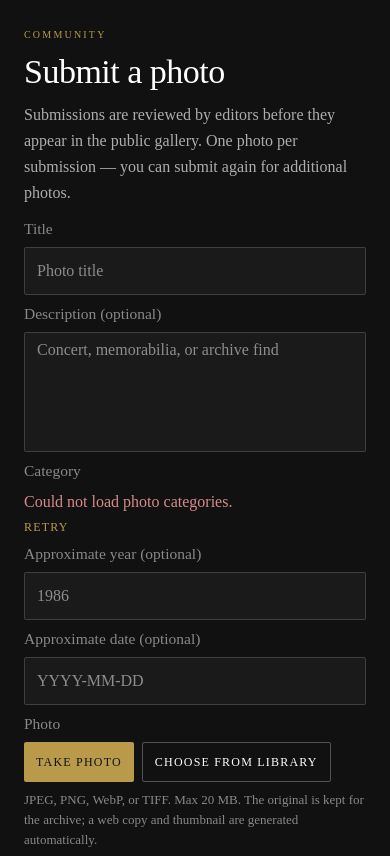
Test case: PhotoSubmitScreen › shows a retry action when photo categories fail to load
The width and height of the screenshot is (390, 856).
Check: the text "Could not load photo categories." is shown, box [24, 493, 232, 510]
Click the button with aria-label "Retry loading photo categories" at (46, 527), box [24, 515, 366, 535]
(page scrolled)
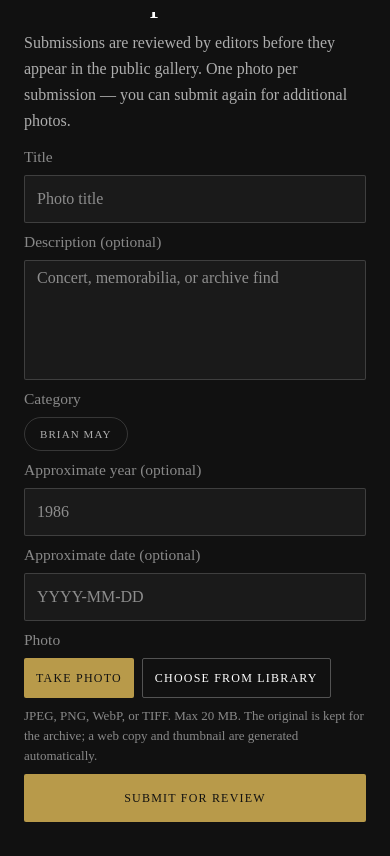
Check: the button "Brian May" is shown, box [24, 417, 128, 451]
Check: the text "Could not load photo categories." is gone
Check: the button "Submit for review" is enabled, box [24, 774, 366, 822]
